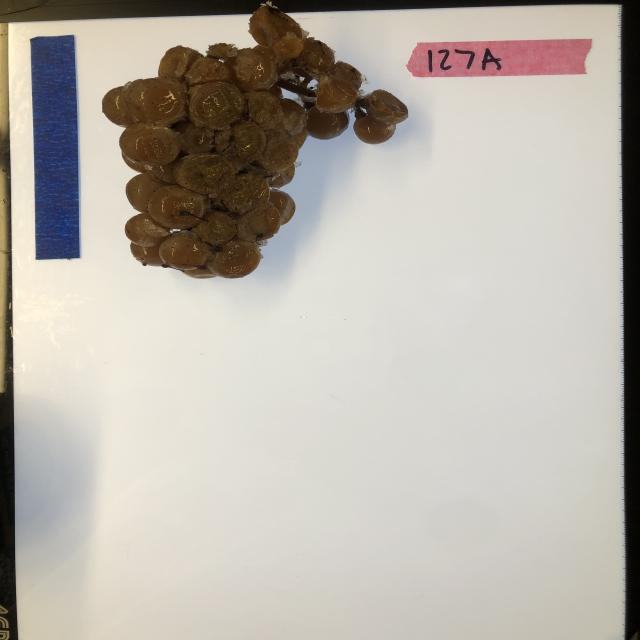grape_cluster: (92, 0, 411, 288)
index: (404, 36, 600, 77)
measure_label: (27, 34, 80, 261)
